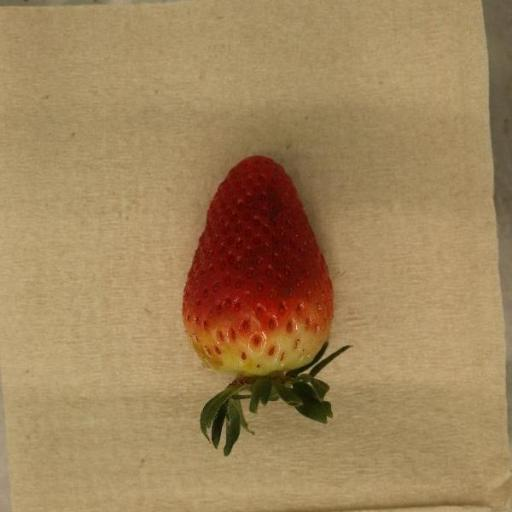Strawberry: (182, 156, 351, 458)
